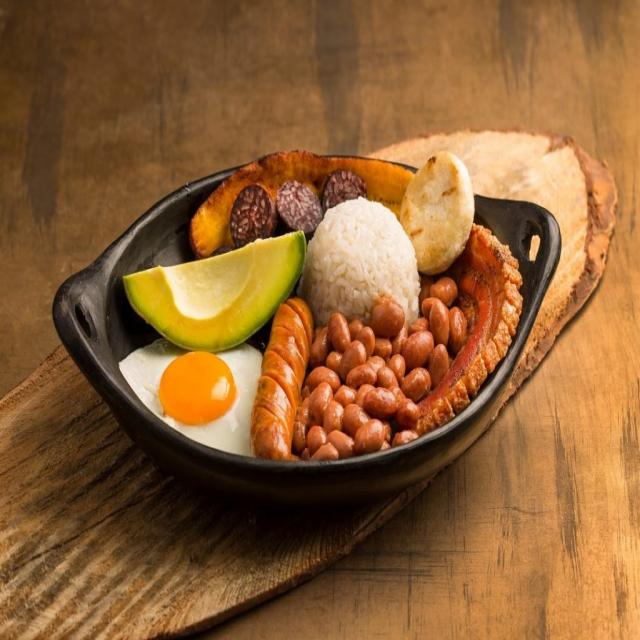non-organic waste: (22, 112, 552, 525)
